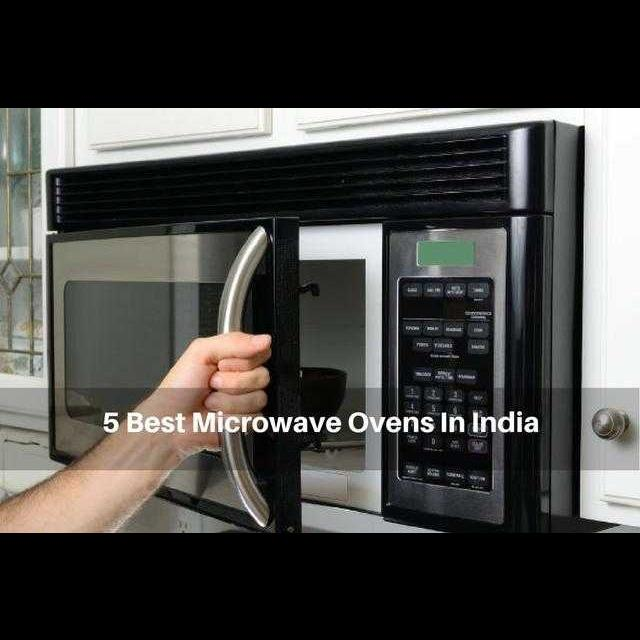Oven: (47, 154, 565, 526)
